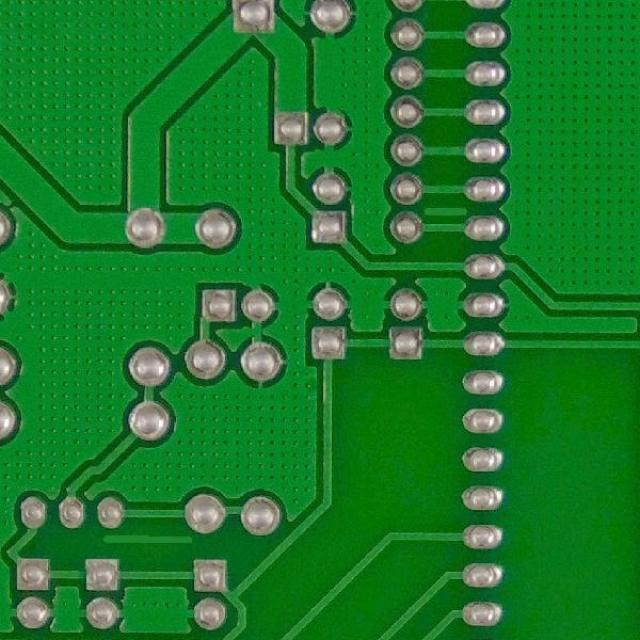spurious_copper: (98, 522, 203, 563), (422, 199, 473, 224)
